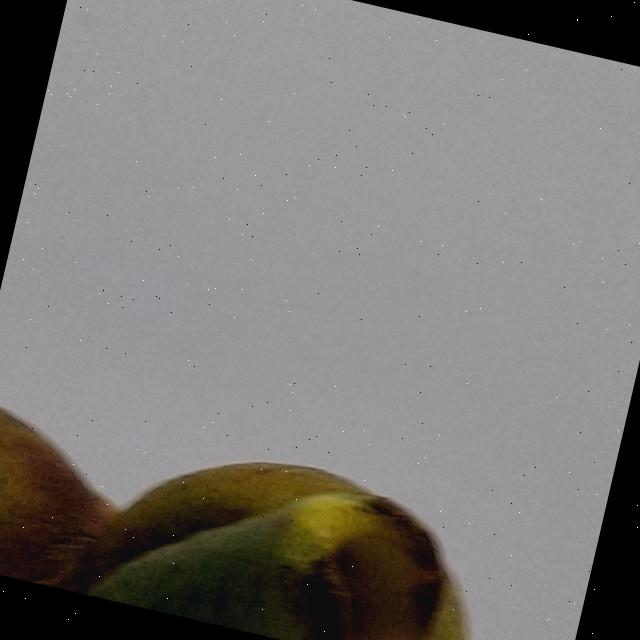mangosteen: (0, 219, 638, 640)
